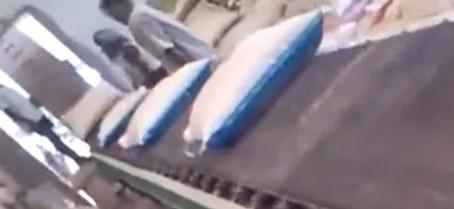rice-bag: (183, 10, 323, 155), (117, 58, 212, 148), (60, 82, 123, 138), (97, 88, 148, 146)
